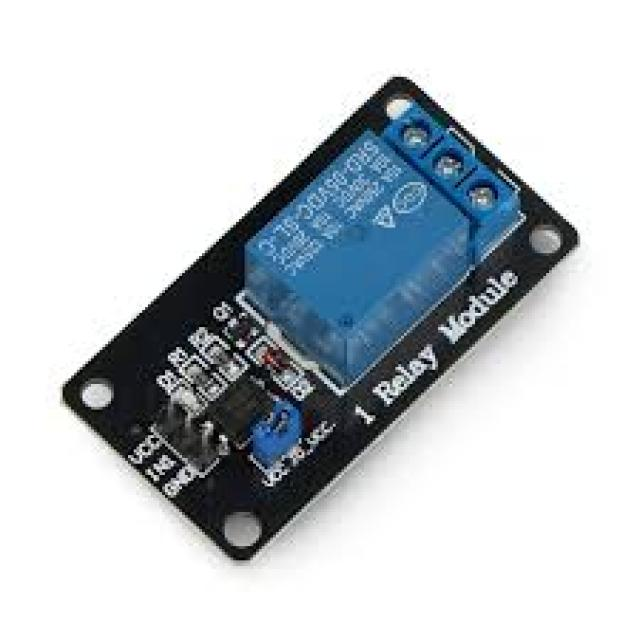Relay: (63, 77, 580, 563)
